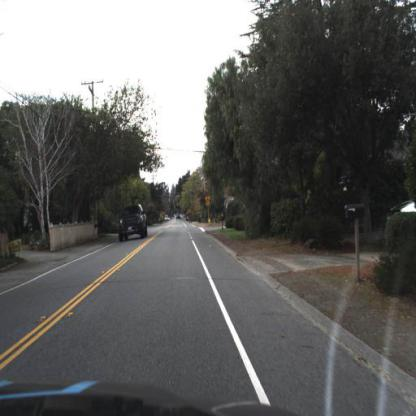car: (115, 202, 151, 248)
